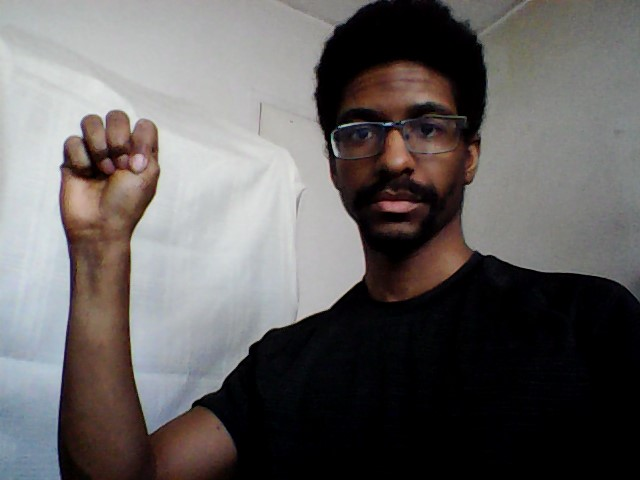m: (56, 107, 165, 245)
